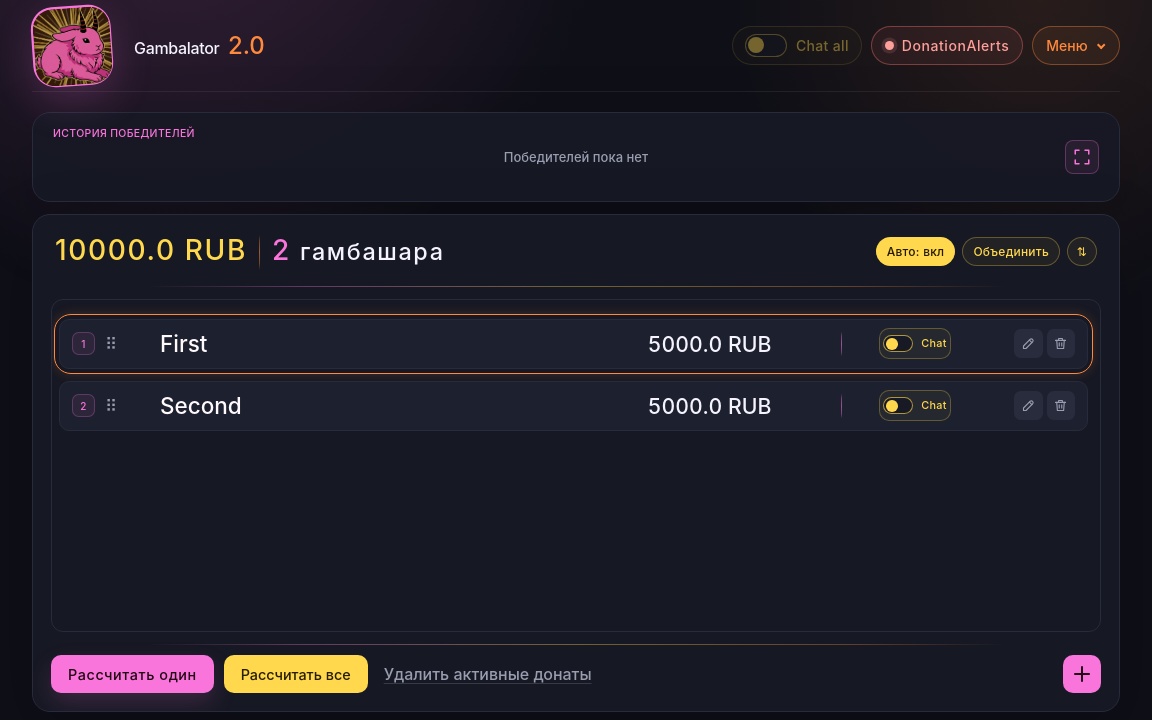
Test: App backend calculator state › uses the one-round backend action and renders its returned result
The image size is (1152, 720).
Expected: the text "Second" is shown, [160,392,242,419]
Step 1. Click the button "Рассчитать один" → (132,674), box [51,655,214,693]
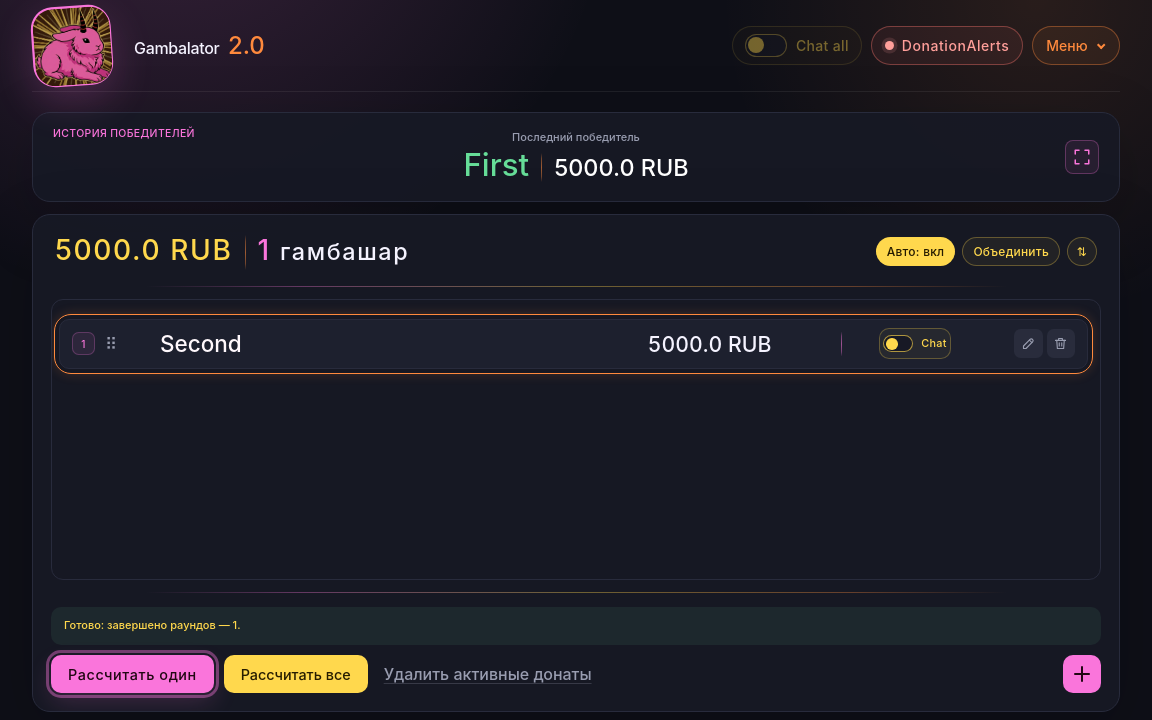
Now the text "First" is shown, box [463,146,529,184]
